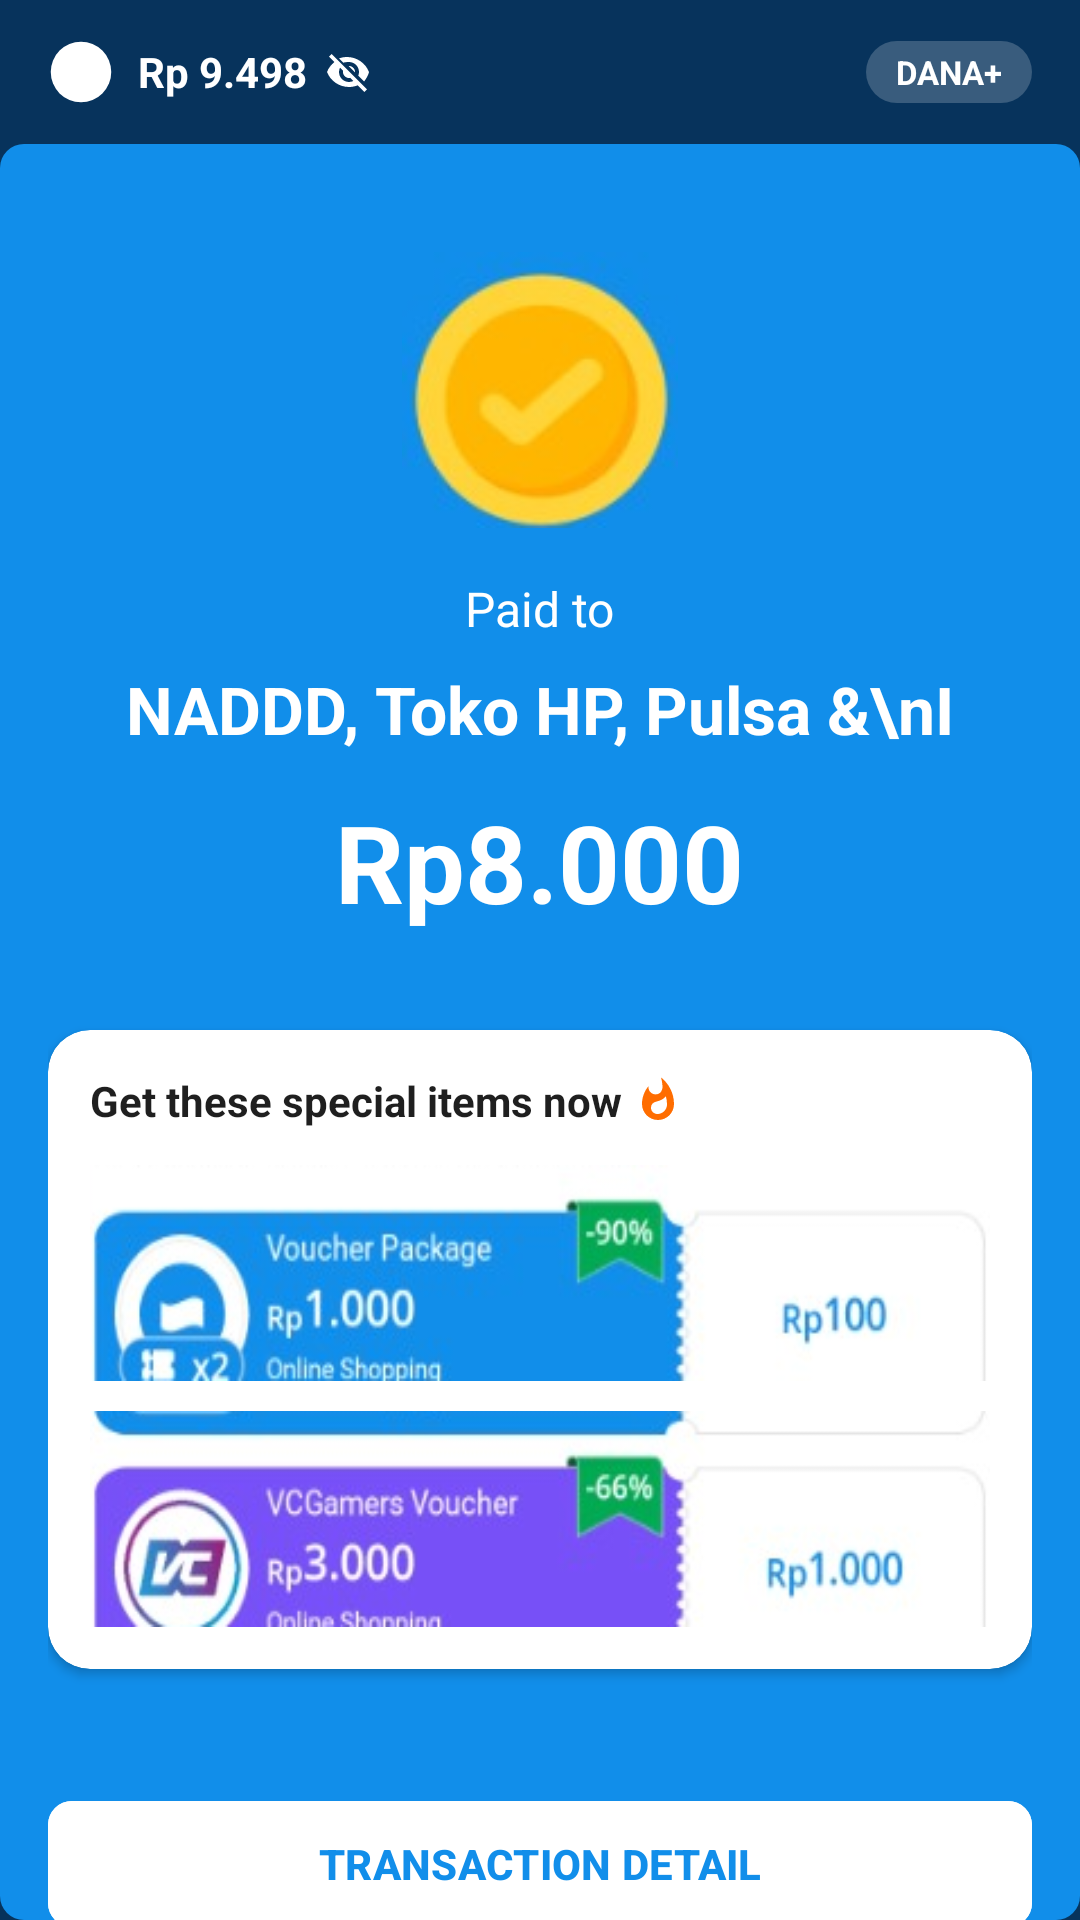

Icons on this 1080px×1920px Android screen, each with the point to tap as [x,y]:
Hidden: [348,73]
Hot: [658,1098]
Success: [541,399]
